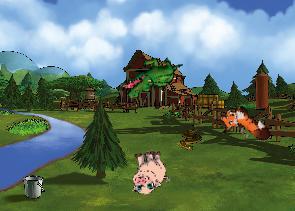crocodile: (118, 43, 184, 111)
fox: (212, 96, 273, 157)
pig: (126, 148, 170, 195)
